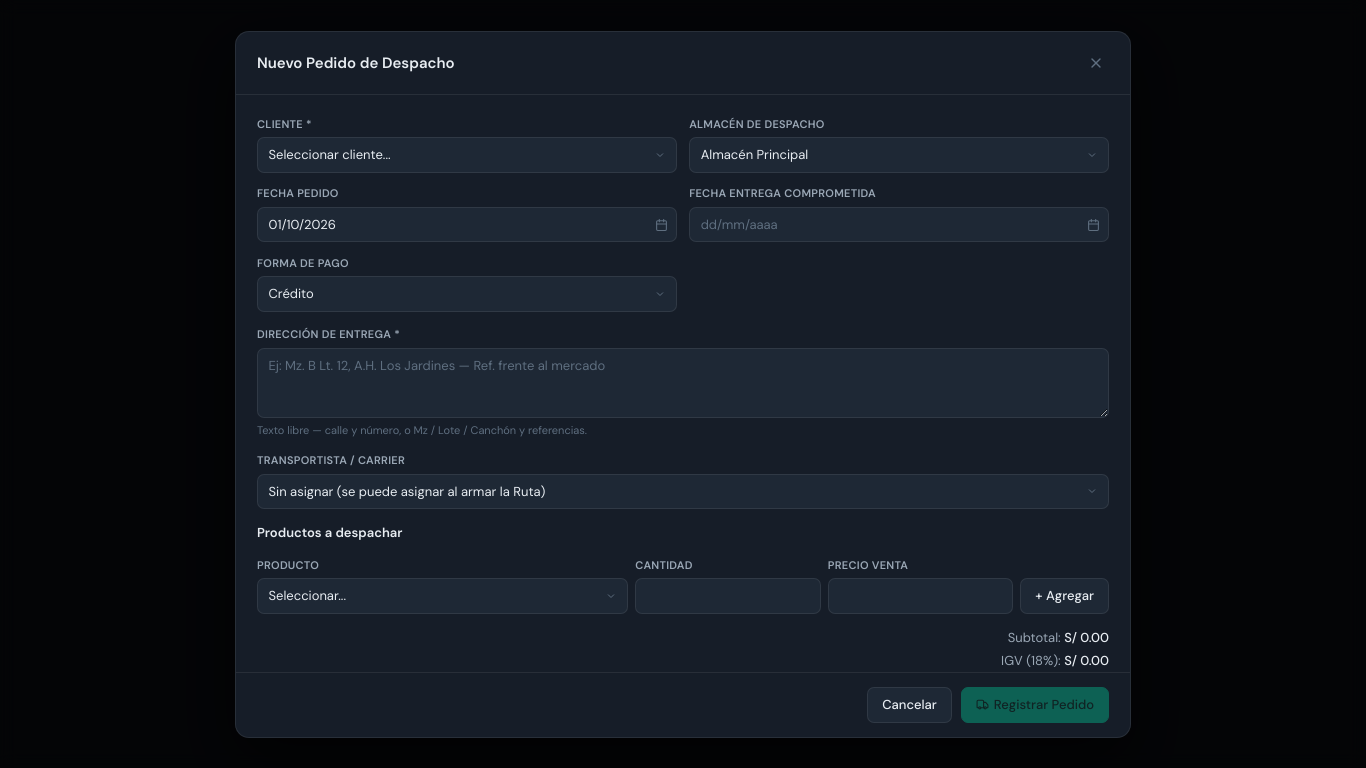
ModalNuevoPedido › agregar un item calcula subtotal/IGV/total y habilita Guardar
The image size is (1366, 768).
Select "Cliente Uno" in the dropdown below "Cliente *" at (467,155), box [257,137,677,172]
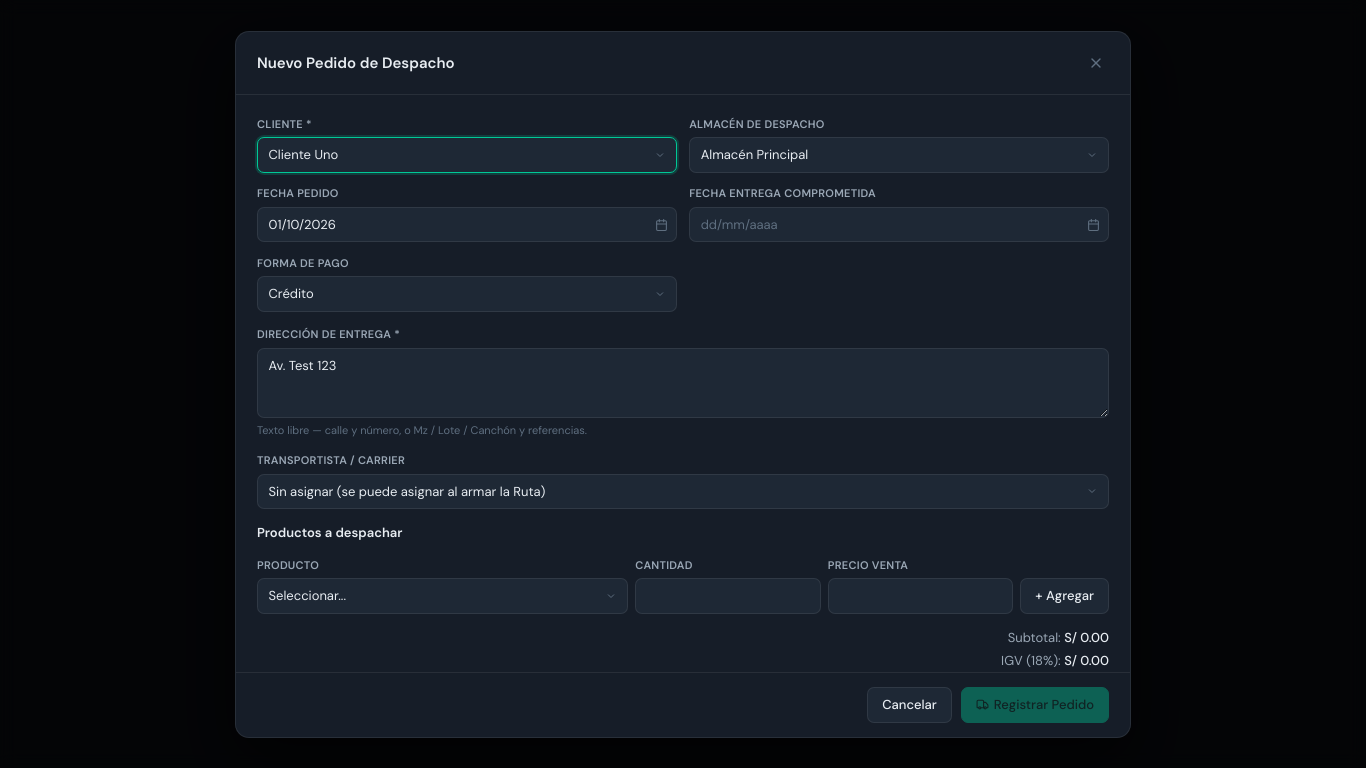
Select "SKU1 — Producto Uno (Stock: 10 UN)" in the dropdown below "Cantidad" at (443,596), box [257,578,628,614]
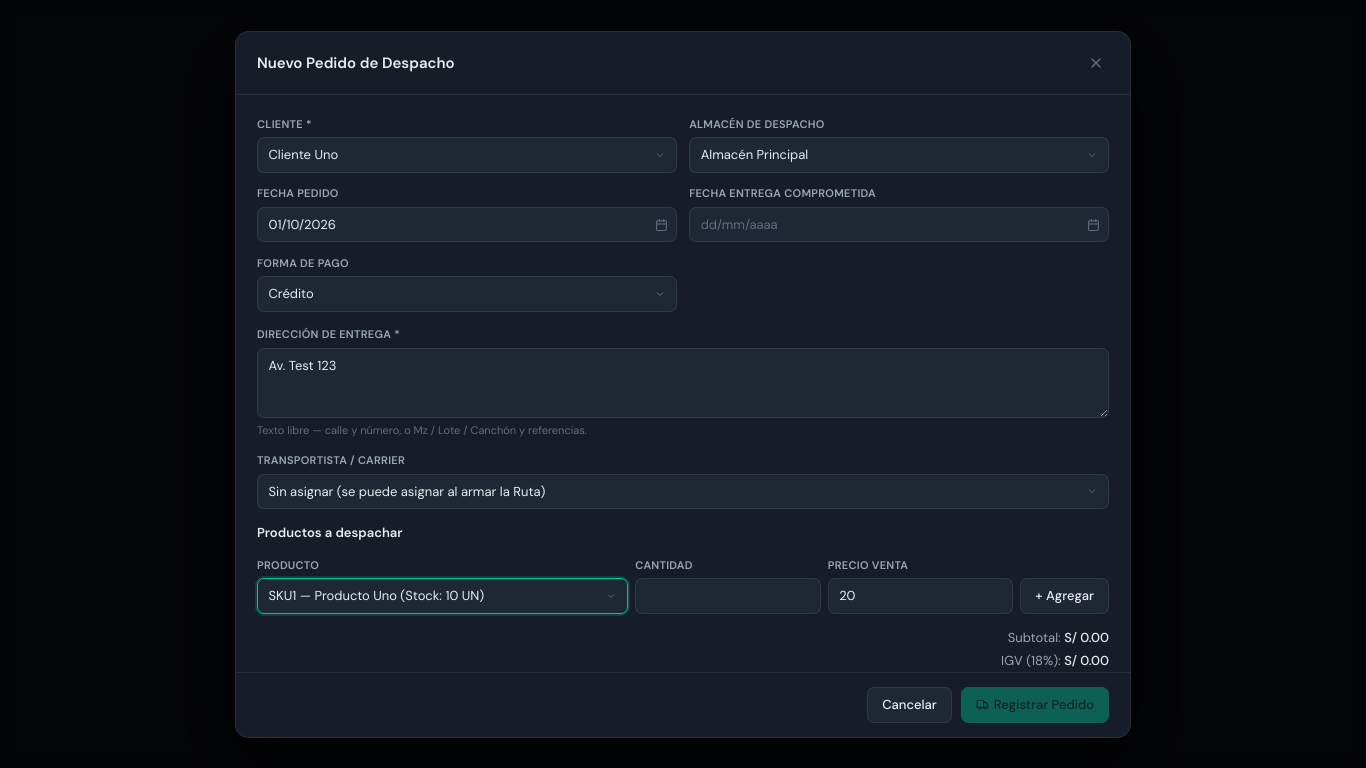
Type "3" into the number field below "Cantidad".
click(728, 596); type("3")  # box [635,578,821,614]
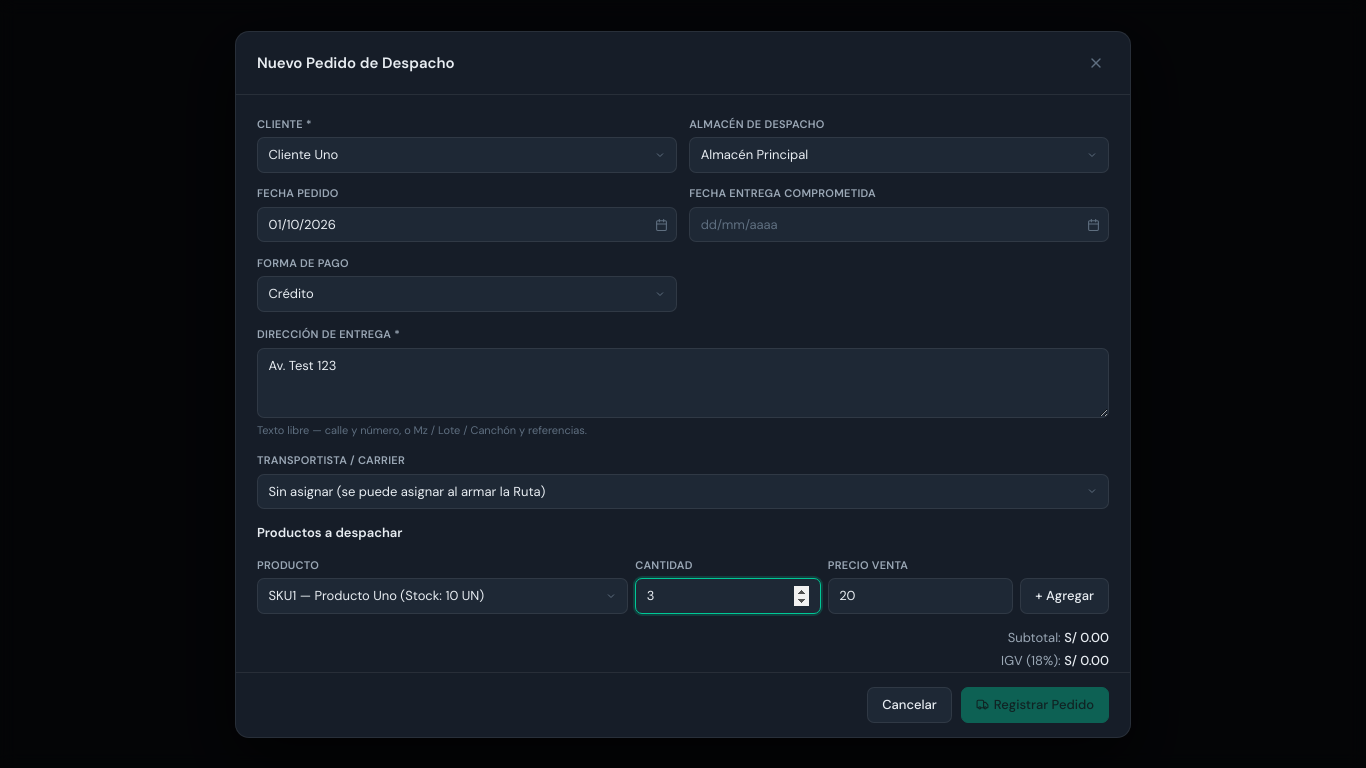
Click the button "+ Agregar".
click(1065, 596)  # box [1020,578,1109,614]
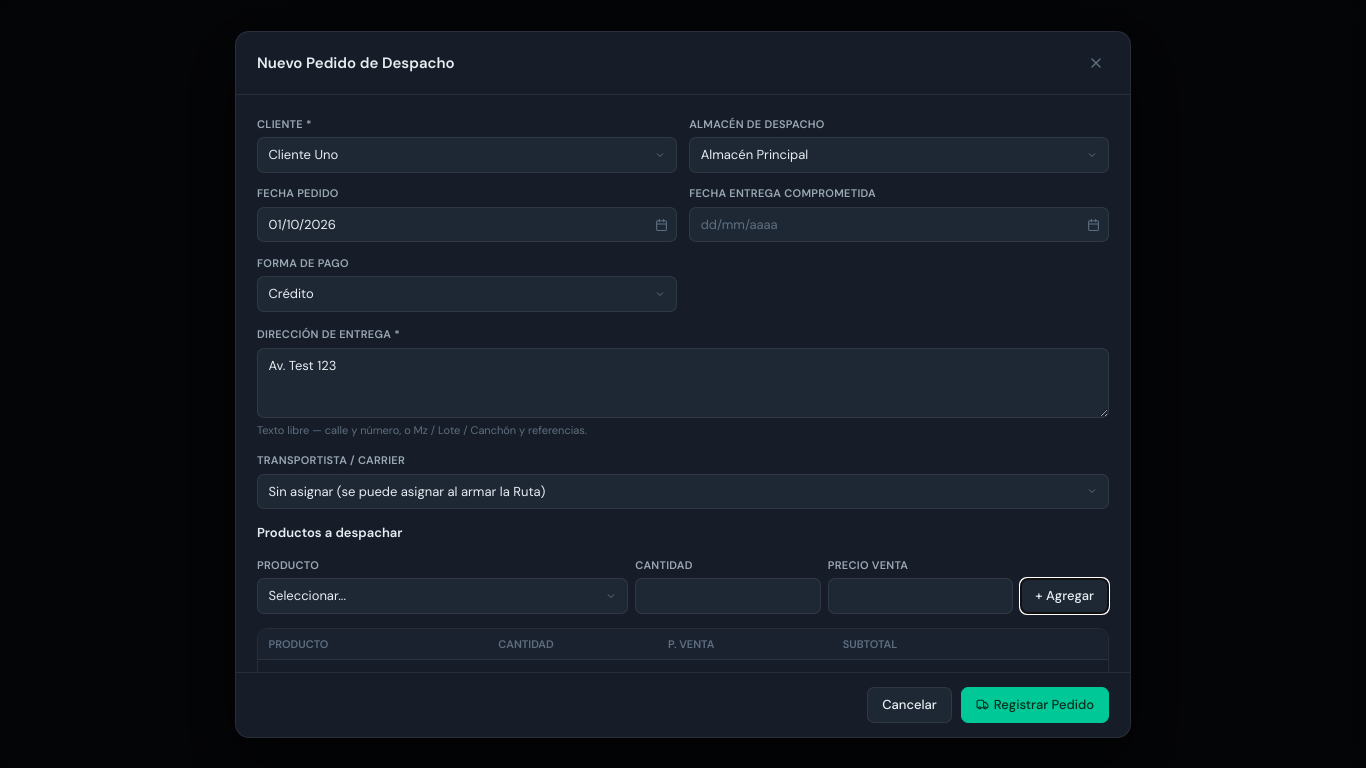
Now the button "Registrar Pedido" is enabled, box [961,687,1109,722]
